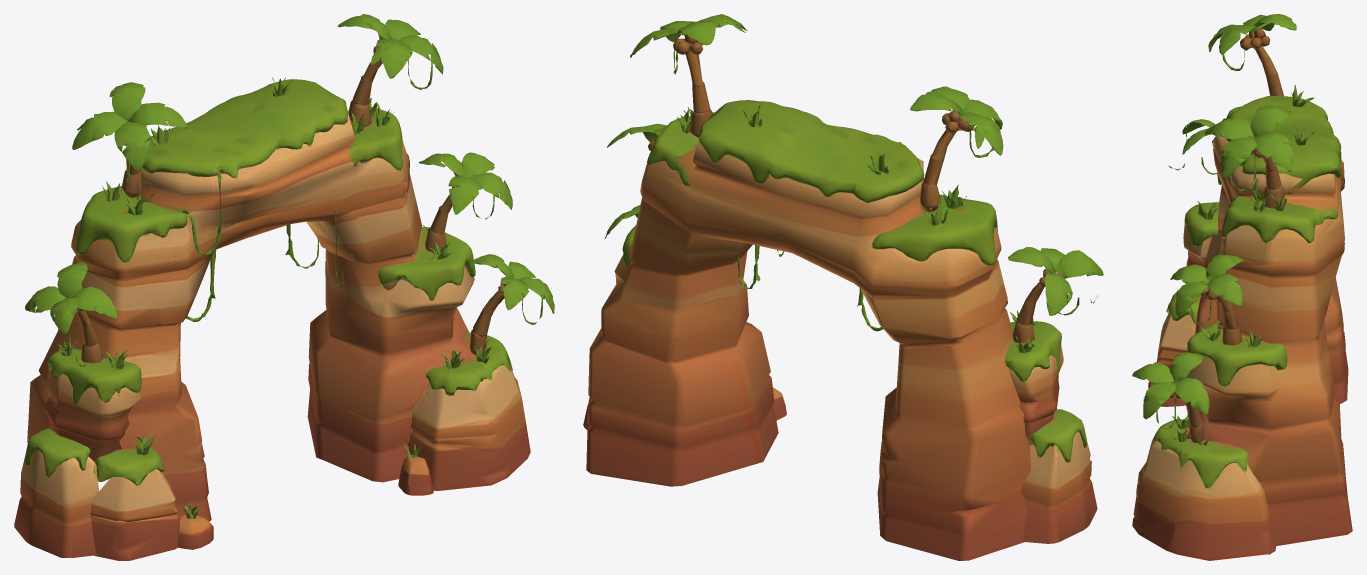
File: playa_arco_roca.glb
The picture shows the model from 3 angles, left to right: view 1: azimuth 30°, elevation 25°; view 2: azimuth 150°, elevation 25°; view 3: azimuth 270°, elevation 25°; orthographic projection. The views are drawn at different scales.
Visible parts, largest first — view 1: tripo_node_2fd295f7-a0fd-401d-8640-745fac288263; view 2: tripo_node_2fd295f7-a0fd-401d-8640-745fac288263; view 3: tripo_node_2fd295f7-a0fd-401d-8640-745fac288263.
Part boxes in pixels (box(x1,y1,x2,y2)): tripo_node_2fd295f7-a0fd-401d-8640-745fac288263: box(14, 14, 554, 560); tripo_node_2fd295f7-a0fd-401d-8640-745fac288263: box(583, 14, 1103, 560); tripo_node_2fd295f7-a0fd-401d-8640-745fac288263: box(1132, 14, 1352, 560).
Size of the model in its own units: 0.9988 by 0.8354 by 0.4235.
Materials: 1 (1 with a texture image).
